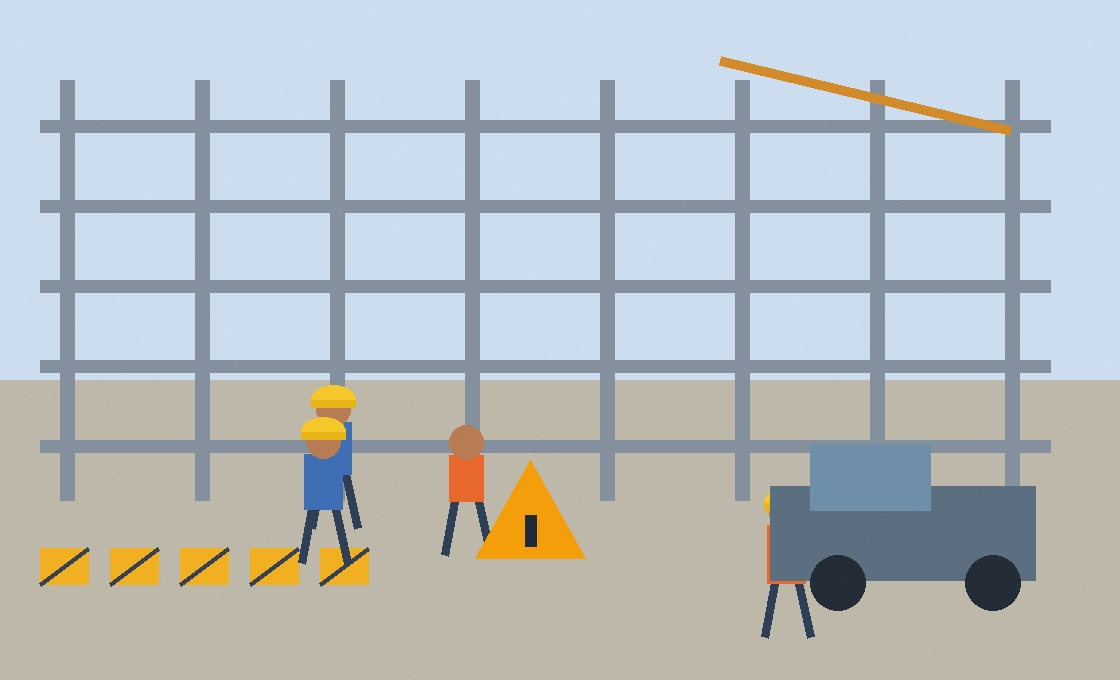no_helmet: (253, 350, 295, 384)
person: (238, 360, 300, 530)
vehicle: (770, 445, 1035, 595)
vest: (228, 395, 300, 483)
warning_sign: (475, 458, 585, 558)
